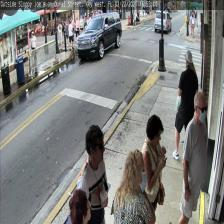person: (177, 92, 208, 224), (113, 150, 156, 224), (76, 124, 108, 223), (138, 114, 166, 223), (172, 50, 198, 160), (63, 190, 92, 224)
